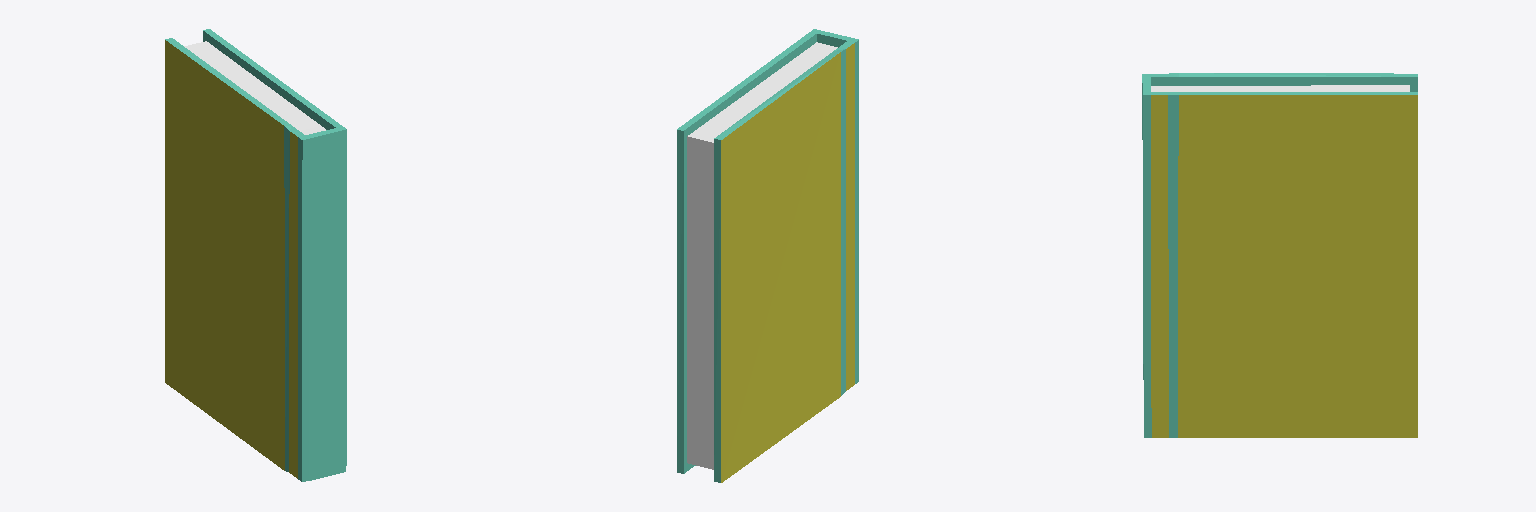
File: book.obj
3 views of the same model, side by side, from view 1: azimuth 30°, elevation 25°; view 2: azimuth 150°, elevation 25°; view 3: azimuth 270°, elevation 25° (orthographic).
Visible parts, largest first — view 1: pCube1; view 2: pCube1; view 3: pCube1.
Part boxes in pixels (x1,y1,x2,y2): pCube1: (165,29,346,481); pCube1: (677,29,858,482); pCube1: (1142,73,1417,437).
Bounding box in the file's own units: 0.5088 × 3.75 × 2.72.